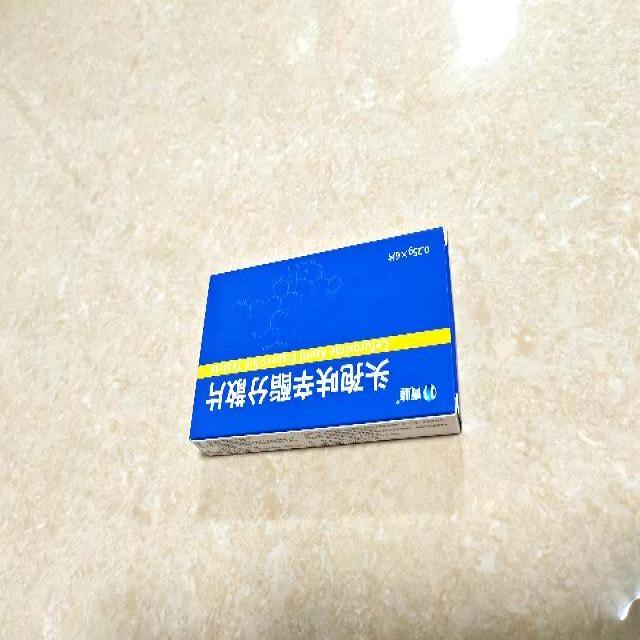box: (188, 223, 466, 457)
